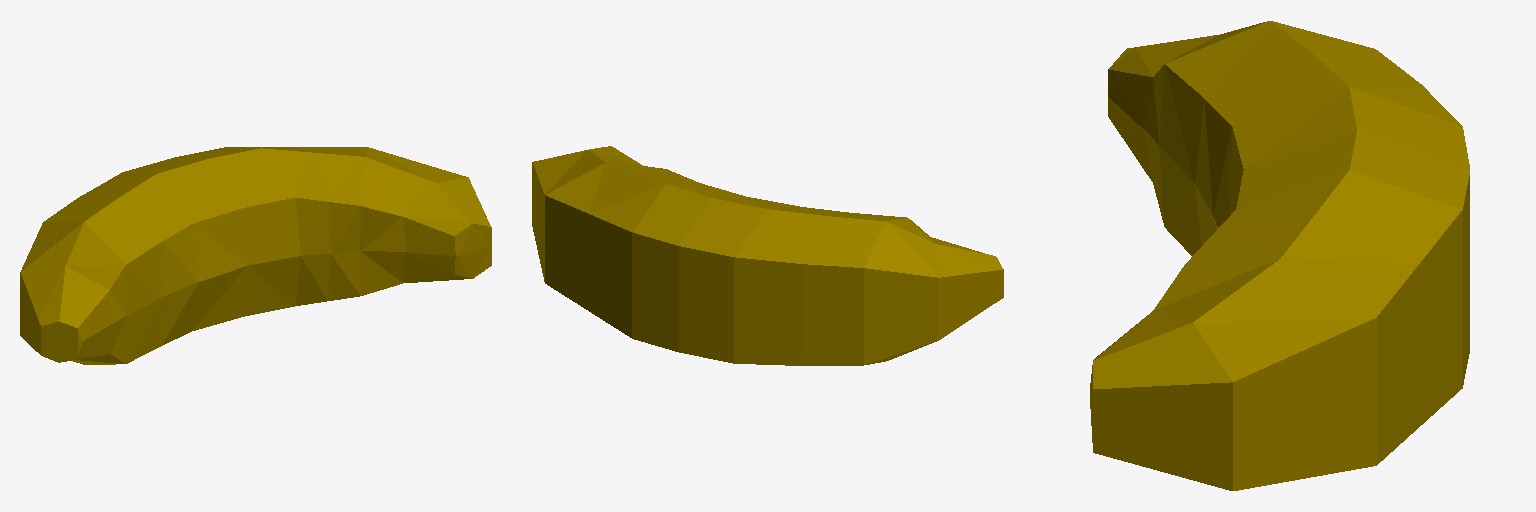
robot.urdf — banana:
<?xml version="1.0"?>

<robot name="banana">
  <link name="banana">
    <gravity>false</gravity>
    <inertial>
       <mass value="0.02"/>
       <inertia
        ixx="0.0007"
        ixy="0"
        ixz="0"
        iyy="0.0007"
        iyz="0"
        izz="0.007" />
    </inertial>
    <collision>
        <geometry><box size="0.0001 0.0001 0.0001" /></geometry>
          <surface>
            <contact>
              <collide_without_contact>true</collide_without_contact>
            </contact>
          </surface>
    </collision>
    <visual>
      <geometry>
        <mesh filename="package://koubot_gazebo/models/banana/meshes/banana.dae"/>
      </geometry>
    </visual>
  </link>
</robot>

--- Facts derived from the render (not from the file) ---
Views: 3 orthographic renders of the robot side by side, from view 1: azimuth 30°, elevation 25°; view 2: azimuth 150°, elevation 25°; view 3: azimuth 270°, elevation 25°.
Model banana with 1 links and 0 joints (none), rooted at banana, posed every joint at zero.
Links seen in each view (by area): view 1: banana; view 2: banana; view 3: banana.
Link boxes in pixels (left/top/right/bottom): banana: left=20, top=147, right=491, bottom=364; banana: left=532, top=146, right=1003, bottom=365; banana: left=1090, top=21, right=1469, bottom=490.
Size in the robot's own frame: 0.1748 by 0.0773 by 0.0576 metres.
1 mesh visuals loaded from 1 distinct referenced files (1 Collada DAE).